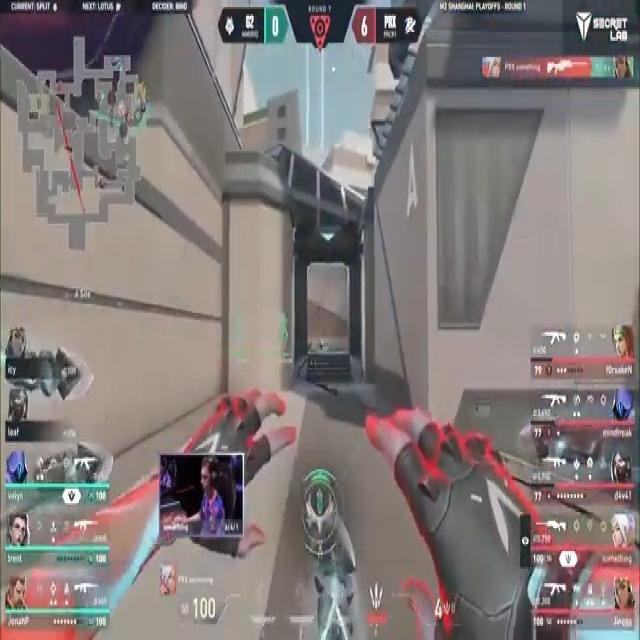ally behind wall: (278, 304, 290, 355)
